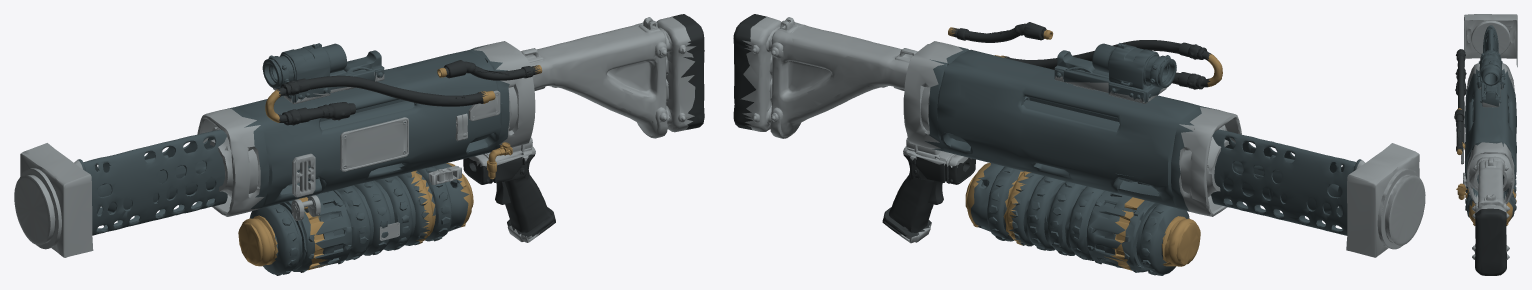
Rendered from reach.glb.
The picture shows the model from 3 angles, left to right: view 1: azimuth 30°, elevation 25°; view 2: azimuth 150°, elevation 25°; view 3: azimuth 270°, elevation 25°; orthographic projection. The views are drawn at different scales.
Parts seen in each view (by area): view 1: Assembly_01_Core, Assembly_07_LowerReinforced, Assembly_10_BraceStabilized, Assembly_04_ShroudReach, Assembly_11_Grip, Assembly_12_Observation, Assembly_15_HoseLower, Assembly_13_FrontCap, Assembly_18_IDPlate, Assembly_14_HoseUpper, Assembly_26_VentGuard, Assembly_27_RepairPlate (+3 smaller); view 2: Assembly_01_Core, Assembly_07_LowerReinforced, Assembly_10_BraceStabilized, Assembly_04_ShroudReach, Assembly_12_Observation, Assembly_11_Grip, Assembly_13_FrontCap, Assembly_15_HoseLower, Assembly_14_HoseUpper; view 3: Assembly_01_Core, Assembly_10_BraceStabilized, Assembly_04_ShroudReach, Assembly_12_Observation, Assembly_13_FrontCap, Assembly_15_HoseLower, Assembly_07_LowerReinforced, Assembly_14_HoseUpper, Assembly_16_FittingElbow.
Part boxes in pixels (x1,y1,x2,y2): Assembly_01_Core: (197,41,535,216); Assembly_07_LowerReinforced: (238,163,473,275); Assembly_10_BraceStabilized: (521,14,704,138); Assembly_04_ShroudReach: (20,129,227,257); Assembly_11_Grip: (463,137,555,242); Assembly_12_Observation: (262,43,384,104); Assembly_15_HoseLower: (265,75,495,125); Assembly_13_FrontCap: (14,168,61,249); Assembly_18_IDPlate: (340,117,408,171); Assembly_14_HoseUpper: (437,60,542,80); Assembly_26_VentGuard: (292,153,315,197); Assembly_27_RepairPlate: (468,90,500,121); Assembly_01_Core: (903,41,1241,216); Assembly_07_LowerReinforced: (965,163,1200,275); Assembly_10_BraceStabilized: (733,14,917,138); Assembly_04_ShroudReach: (1211,129,1419,257); Assembly_12_Observation: (1054,43,1176,103); Assembly_11_Grip: (882,138,975,243); Assembly_13_FrontCap: (1377,168,1425,249); Assembly_15_HoseLower: (995,40,1222,89); Assembly_14_HoseUpper: (948,22,1053,42); Assembly_01_Core: (1465,63,1516,204); Assembly_10_BraceStabilized: (1472,156,1509,275); Assembly_04_ShroudReach: (1464,14,1517,67); Assembly_12_Observation: (1476,50,1505,107); Assembly_13_FrontCap: (1471,21,1510,54); Assembly_15_HoseLower: (1455,49,1466,149); Assembly_07_LowerReinforced: (1465,177,1516,225); Assembly_14_HoseUpper: (1454,108,1464,154); Assembly_16_FittingElbow: (1456,183,1466,199).
Bounding box in the file's own units: 1.06 × 0.3698 × 0.1438.
